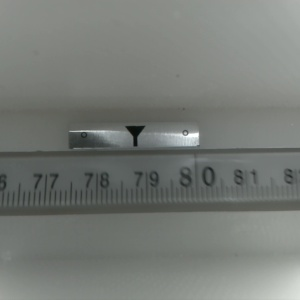0: (201, 166, 216, 186)
1: (248, 168, 255, 185)
6: (0, 173, 6, 191)
7: (31, 173, 42, 190), (48, 173, 59, 189), (132, 171, 142, 187), (83, 172, 93, 188)
8: (179, 167, 192, 187), (283, 168, 294, 185), (232, 169, 243, 186), (99, 172, 109, 188)
9: (148, 171, 159, 187)
finger: (123, 126, 145, 147)
